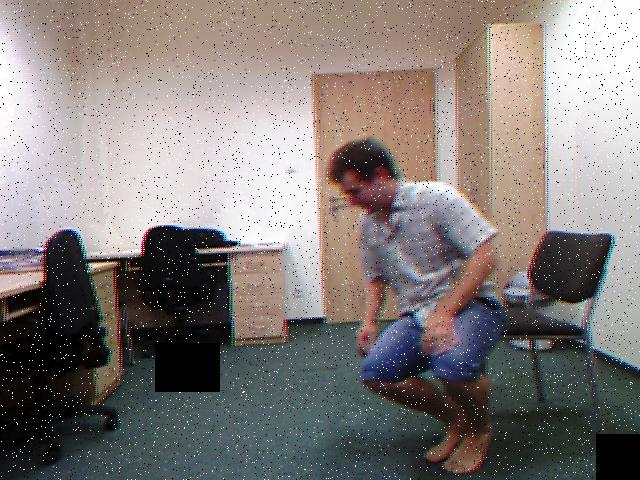near-fall: (313, 123, 520, 480)
